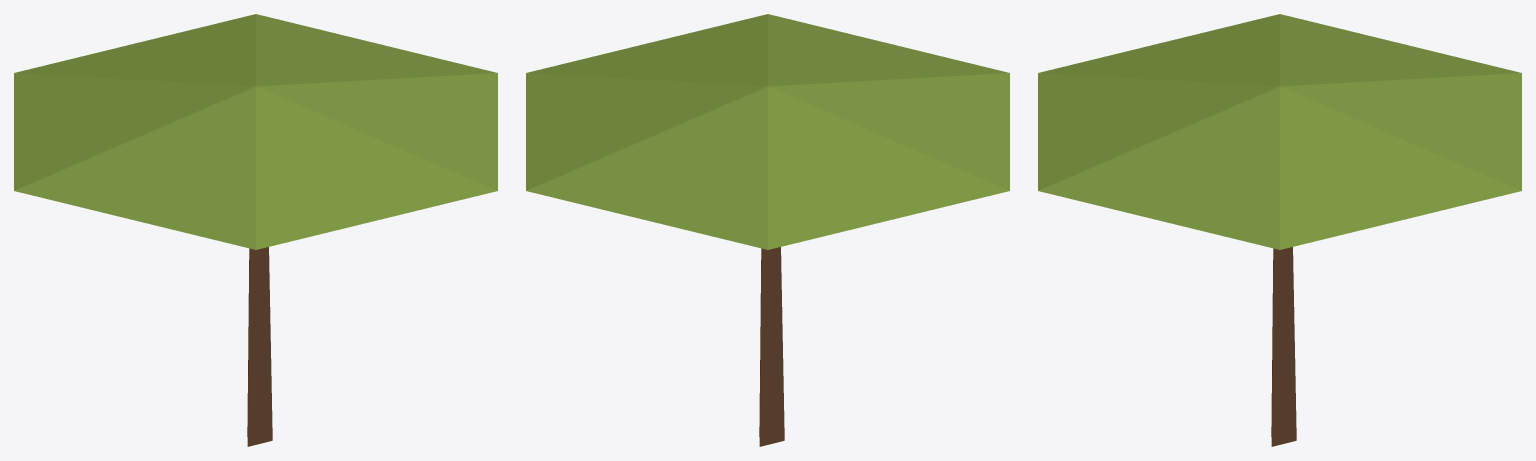
File: acacia_loin.glb
3 renders of one model, left to right at view 1: azimuth 30°, elevation 25°; view 2: azimuth 150°, elevation 25°; view 3: azimuth 270°, elevation 25°, orthographic.
Visible parts, largest first — view 1: acacia_loin; view 2: acacia_loin; view 3: acacia_loin.
Boxes of the visible parts, box(x1,y1,x2,y2) form: acacia_loin: box(14, 14, 497, 446); acacia_loin: box(526, 14, 1009, 446); acacia_loin: box(1038, 14, 1521, 446).
Bounding box in the file's own units: 10 × 7 × 8.66.
Materials: 1 (1 with a texture image).
